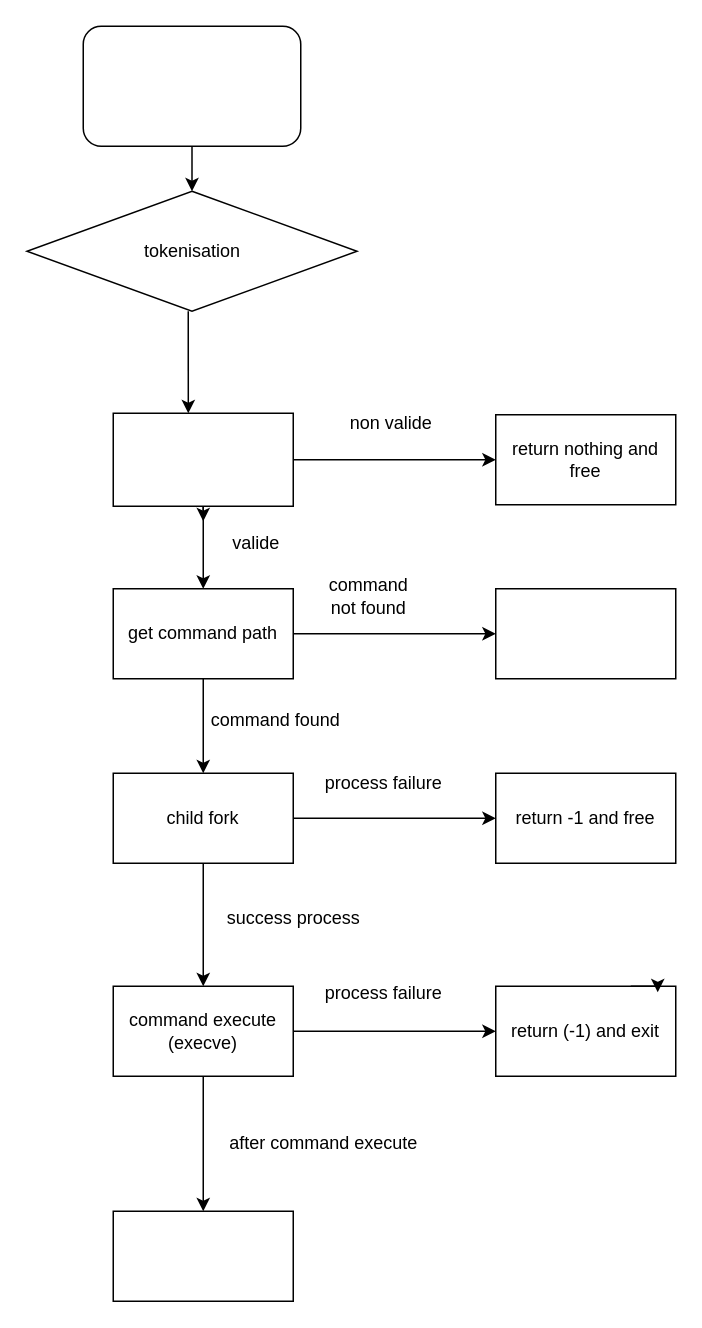
The diagram is 702 pixels wide and 1328 high, and some of its shapes have lost their labels. The shapes that lost their labels are listed below. From the top down, each one's centre as x and y in pixels, then its label:
At [191,85]: "execute command".
At [202,459]: "checking the validity of arguments".
At [585,633]: "error message and free".
At [202,1255]: "wait and free".
